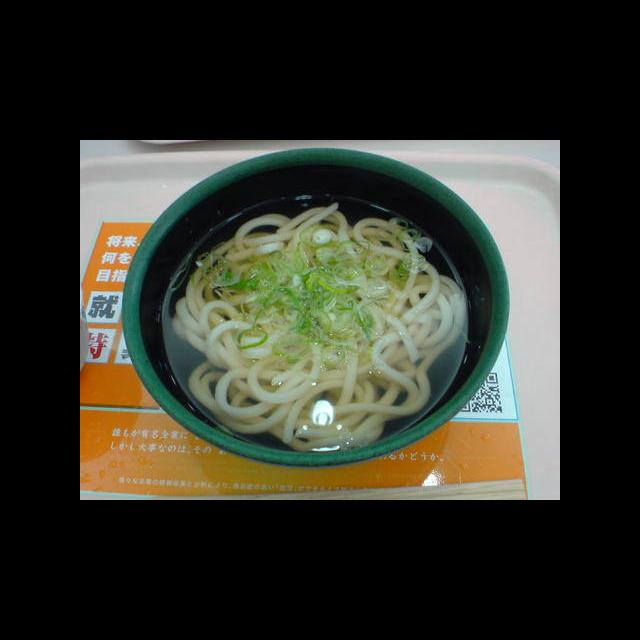noodles: (169, 202, 467, 451)
